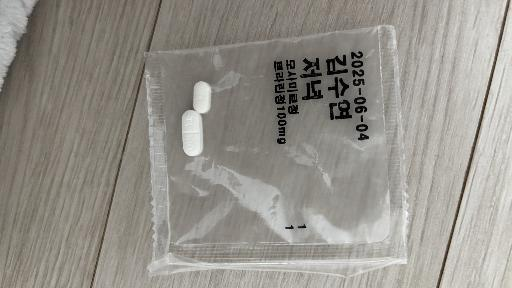Mosamir: (182, 110, 203, 156), (193, 81, 211, 113)
Traline: (182, 110, 203, 156)
vinyl: (145, 26, 407, 276)
